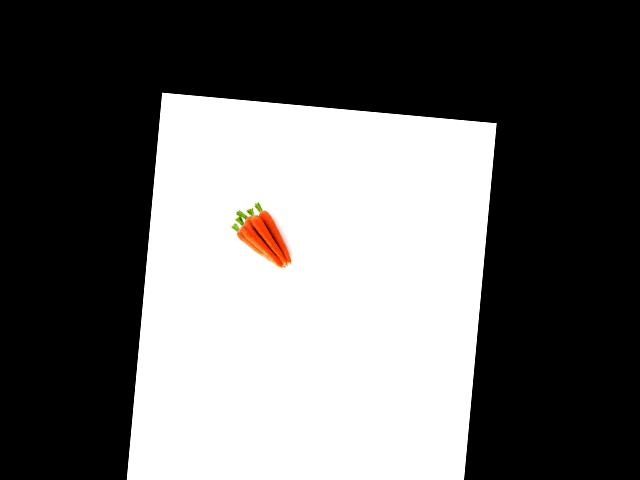carrot: (256, 206, 300, 262)
